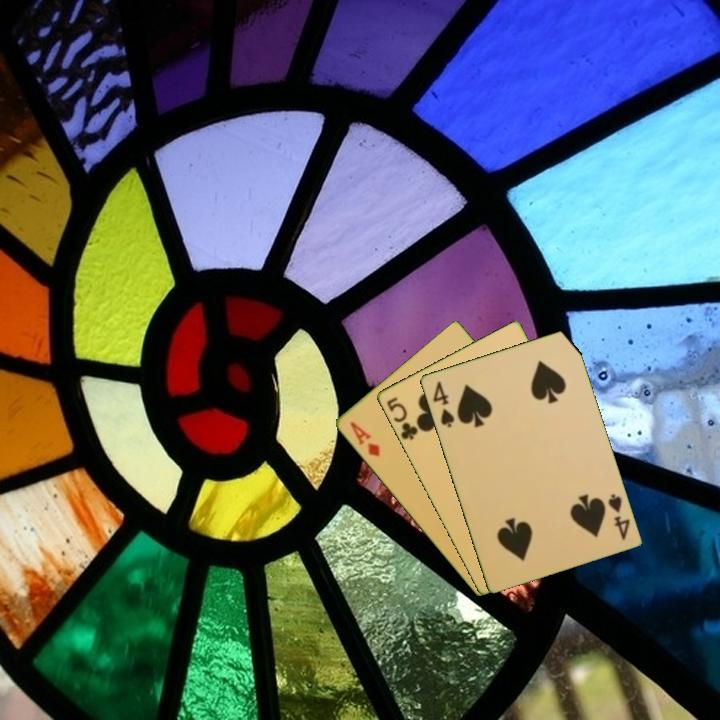4s: (429, 377, 457, 430), (604, 490, 632, 543)
5c: (383, 393, 422, 443)
Ad: (346, 418, 383, 460)
